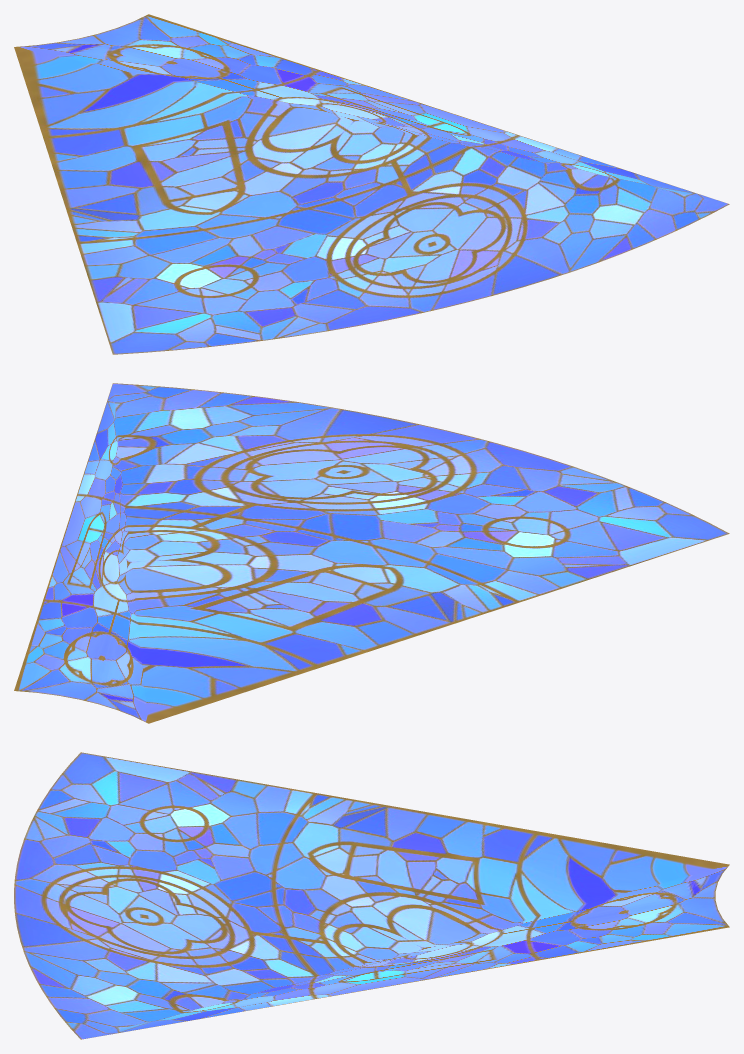
Rendered from lb_wedgelit_5.glb.
3 views of the same model, one above another, from view 1: azimuth 30°, elevation 25°; view 2: azimuth 150°, elevation 25°; view 3: azimuth 270°, elevation 25° (orthographic). The views are drawn at different scales.
Parts seen in each view (by area): view 1: lb_wedgelit_5; view 2: lb_wedgelit_5; view 3: lb_wedgelit_5.
Boxes of the visible parts, x1,y1,x2,y2 form: lb_wedgelit_5: (14,14,729,354); lb_wedgelit_5: (14,383,729,723); lb_wedgelit_5: (14,752,729,1039).
Size of the model in its own units: 11.32 by 0 by 11.92.
1 material, 1 textured.
